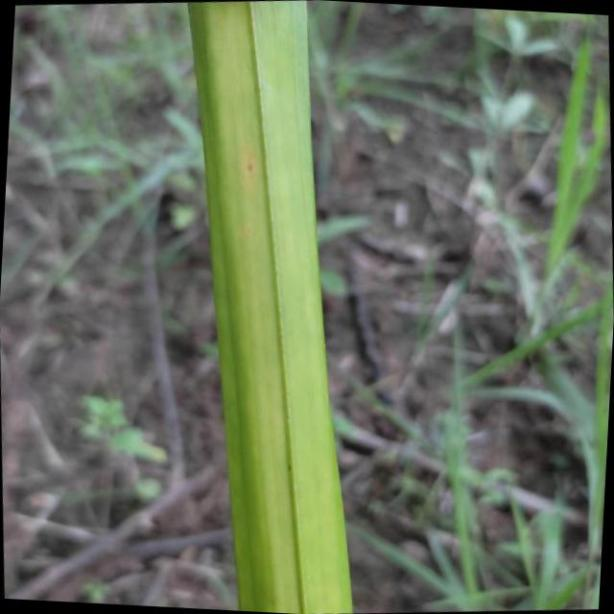nitrogen: (184, 0, 356, 614)
